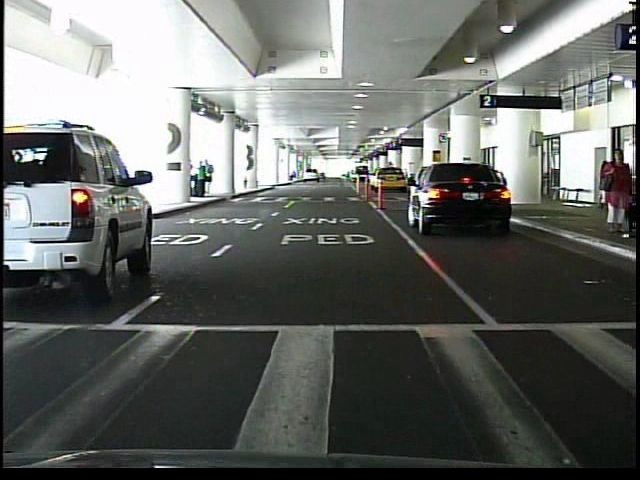person: (597, 149, 632, 240), (597, 154, 611, 210), (193, 160, 206, 199), (204, 160, 215, 198)
